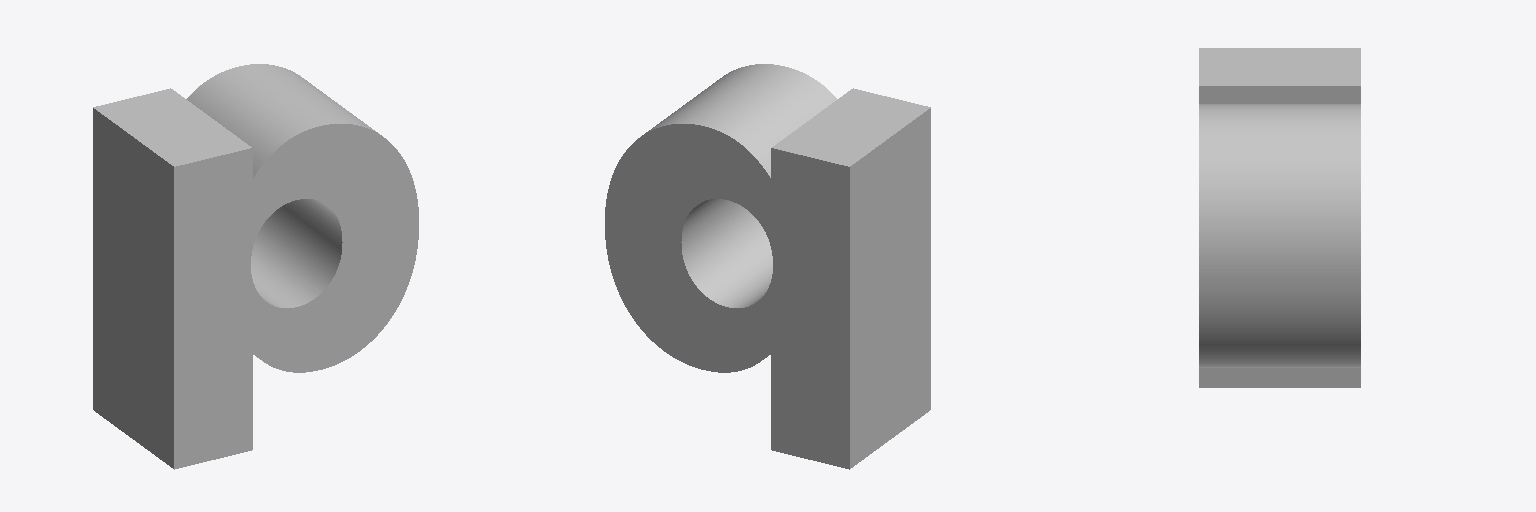
Rendered from Recurso 2.obj.
3 renders of one model, left to right at view 1: azimuth 30°, elevation 25°; view 2: azimuth 150°, elevation 25°; view 3: azimuth 270°, elevation 25°, orthographic.
Visible parts, largest first — view 1: groupNumber_0; view 2: groupNumber_0; view 3: groupNumber_0.
Part boxes in pixels (x1,y1,x2,y2): groupNumber_0: (93, 64, 418, 469); groupNumber_0: (605, 64, 930, 469); groupNumber_0: (1199, 48, 1360, 387).
Bounding box in the file's own units: 6.99 × 8.39 × 4.02.